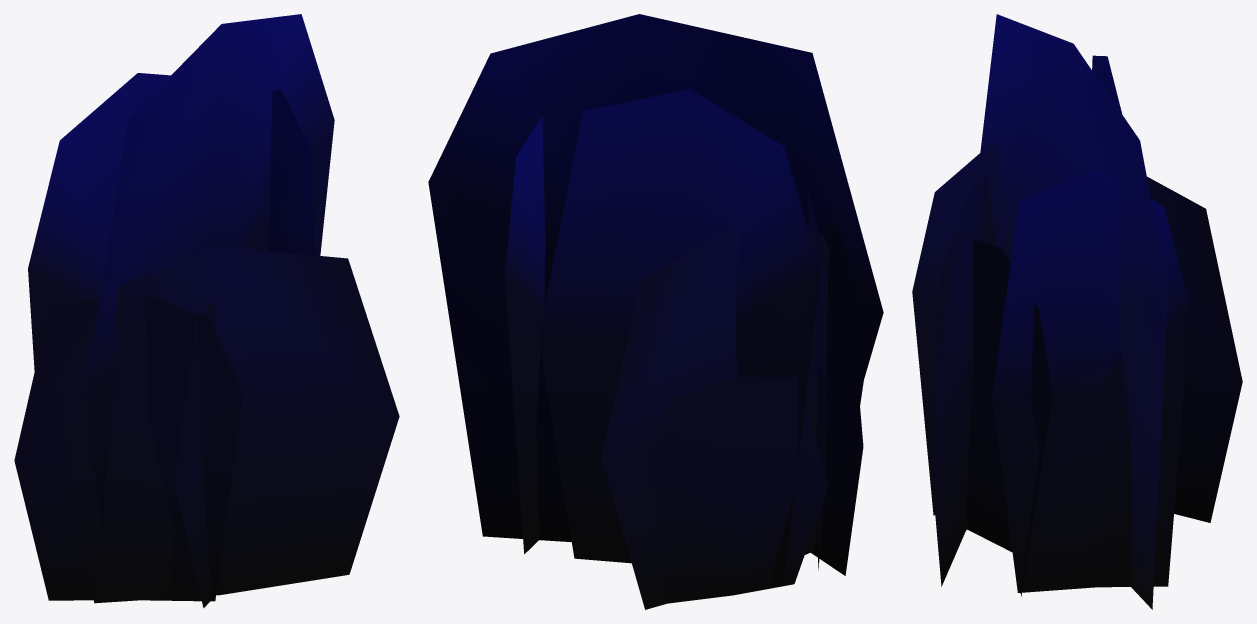
Rendered from SM_Grass_M_Patch_S_05.fbx.
3 renders of one model, left to right at view 1: azimuth 30°, elevation 25°; view 2: azimuth 150°, elevation 25°; view 3: azimuth 270°, elevation 25°, orthographic. The views are drawn at different scales.
Visible parts, largest first — view 1: SM_Grass_M_Patch_S_05; view 2: SM_Grass_M_Patch_S_05; view 3: SM_Grass_M_Patch_S_05.
Part boxes in pixels (<box>): SM_Grass_M_Patch_S_05: <box>14,14,399,608</box>; SM_Grass_M_Patch_S_05: <box>428,14,883,609</box>; SM_Grass_M_Patch_S_05: <box>912,14,1242,609</box>.
Size of the model in its own units: 105 by 80.74 by 139.
